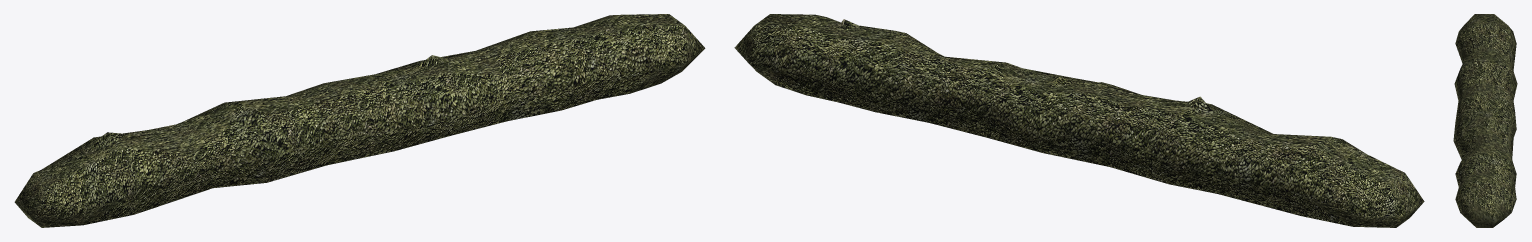
File: bush.fbx
3 renders of one model, left to right at view 1: azimuth 30°, elevation 25°; view 2: azimuth 150°, elevation 25°; view 3: azimuth 270°, elevation 25°, orthographic. The views are drawn at different scales.
Visible parts, largest first — view 1: pCube53; view 2: pCube53; view 3: pCube53.
Boxes of the visible parts, box(x1,y1,x2,y2) form: pCube53: box(14, 14, 705, 227); pCube53: box(734, 14, 1424, 227); pCube53: box(1453, 14, 1517, 227).
Size of the model in its own units: 934 by 91.5 by 127.
